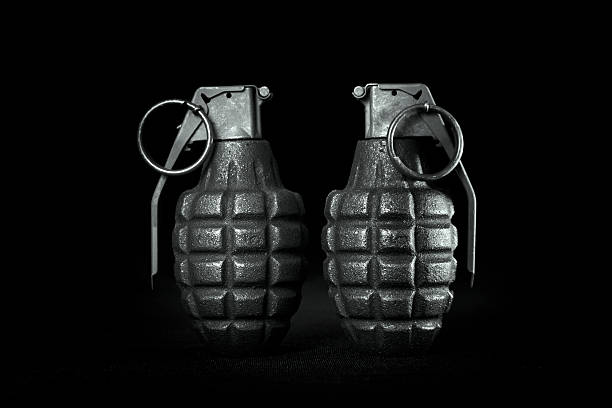e1: (130, 79, 309, 343), (323, 79, 487, 346)
